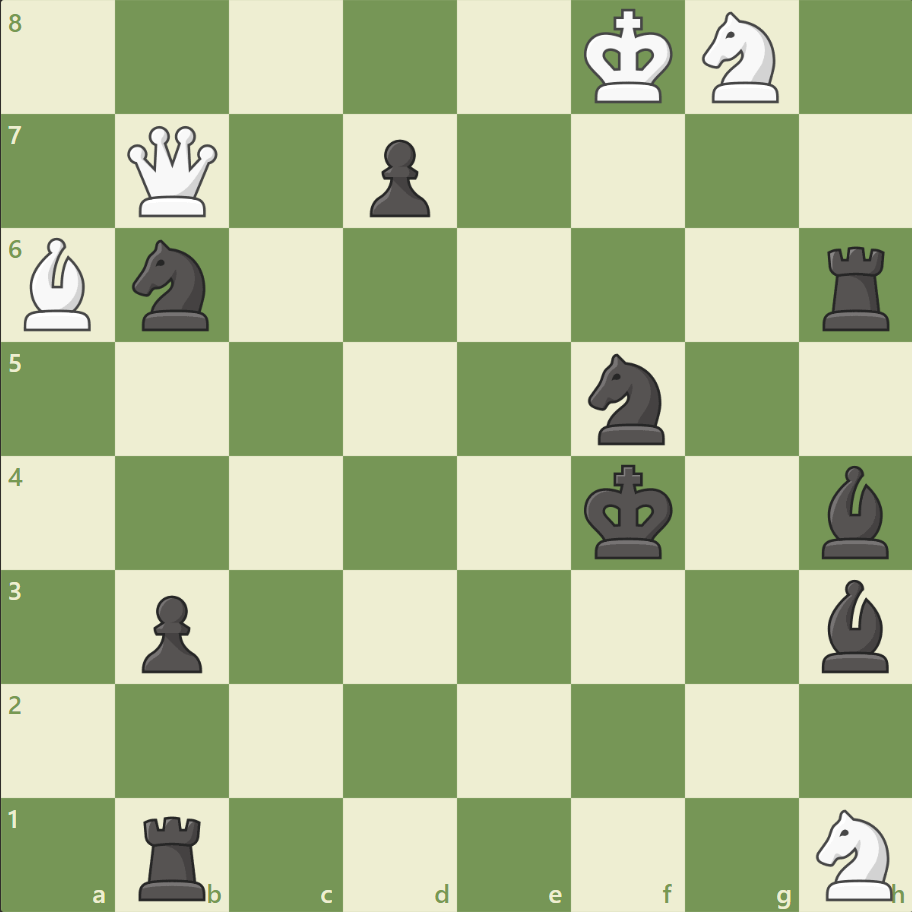B: (17, 233, 101, 336)
K: (579, 4, 679, 112)
N: (692, 7, 789, 110), (806, 802, 903, 904)
Q: (124, 122, 223, 222)
b: (812, 460, 896, 563), (812, 574, 896, 676)
k: (579, 458, 679, 566)
n: (124, 234, 222, 337), (579, 348, 676, 450)
p: (133, 586, 208, 677), (361, 132, 435, 223)
r: (814, 239, 897, 336), (133, 806, 215, 904)
